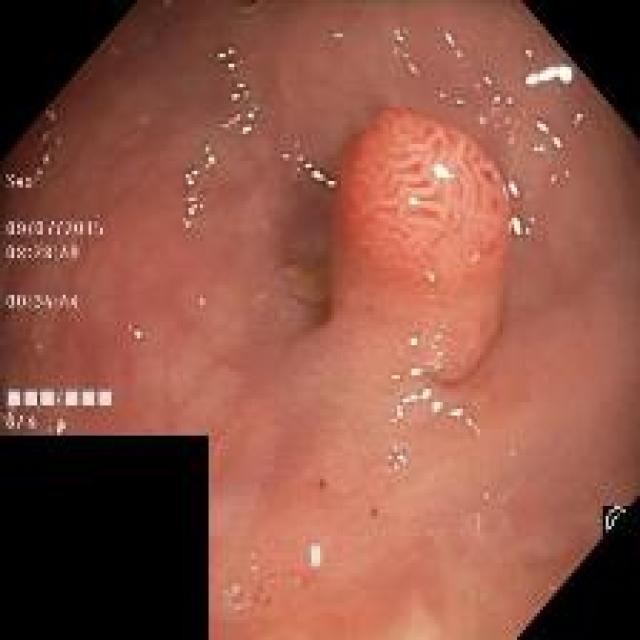Polyps: (330, 108, 509, 383)
